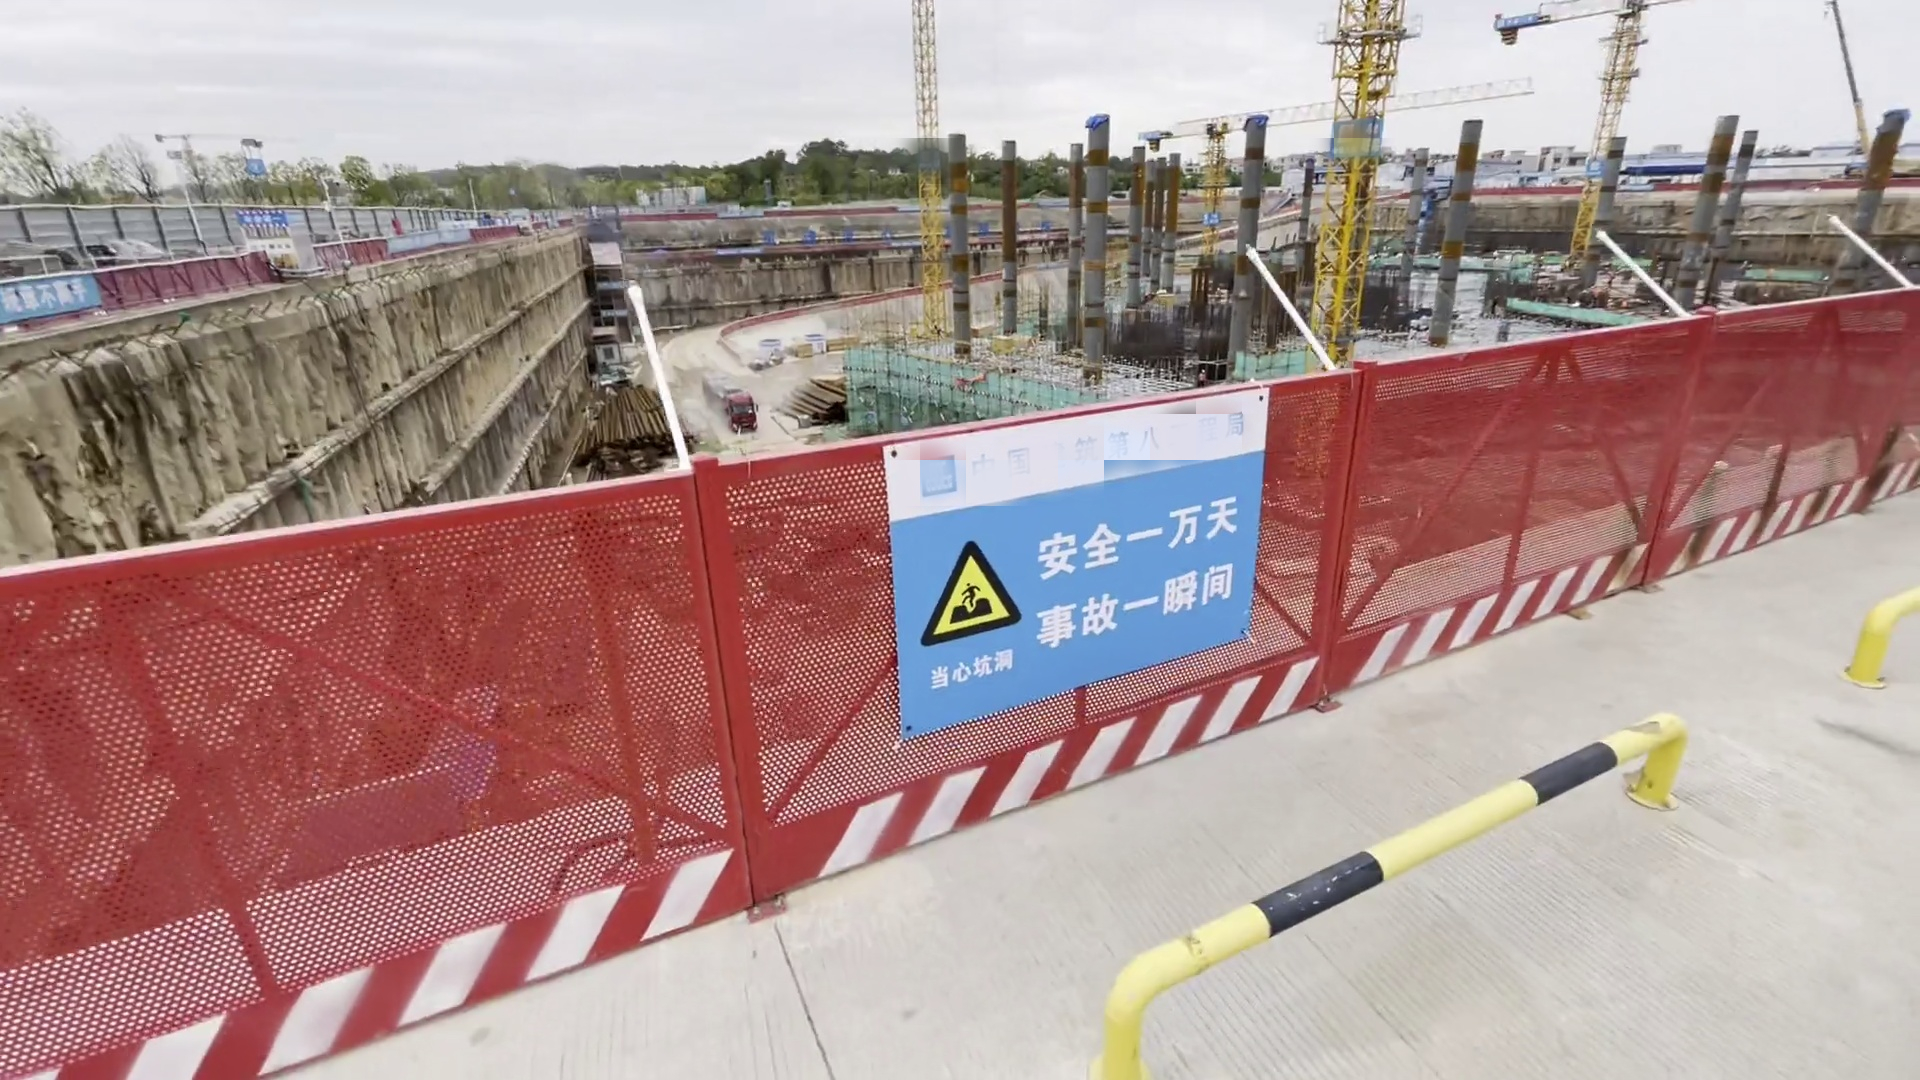fence: (3, 435, 1563, 1080), (119, 251, 294, 305), (688, 244, 843, 256), (764, 208, 897, 219)
slogan: (923, 465, 1257, 680), (1, 276, 94, 319), (378, 232, 469, 265), (760, 225, 901, 243), (717, 247, 764, 256)
